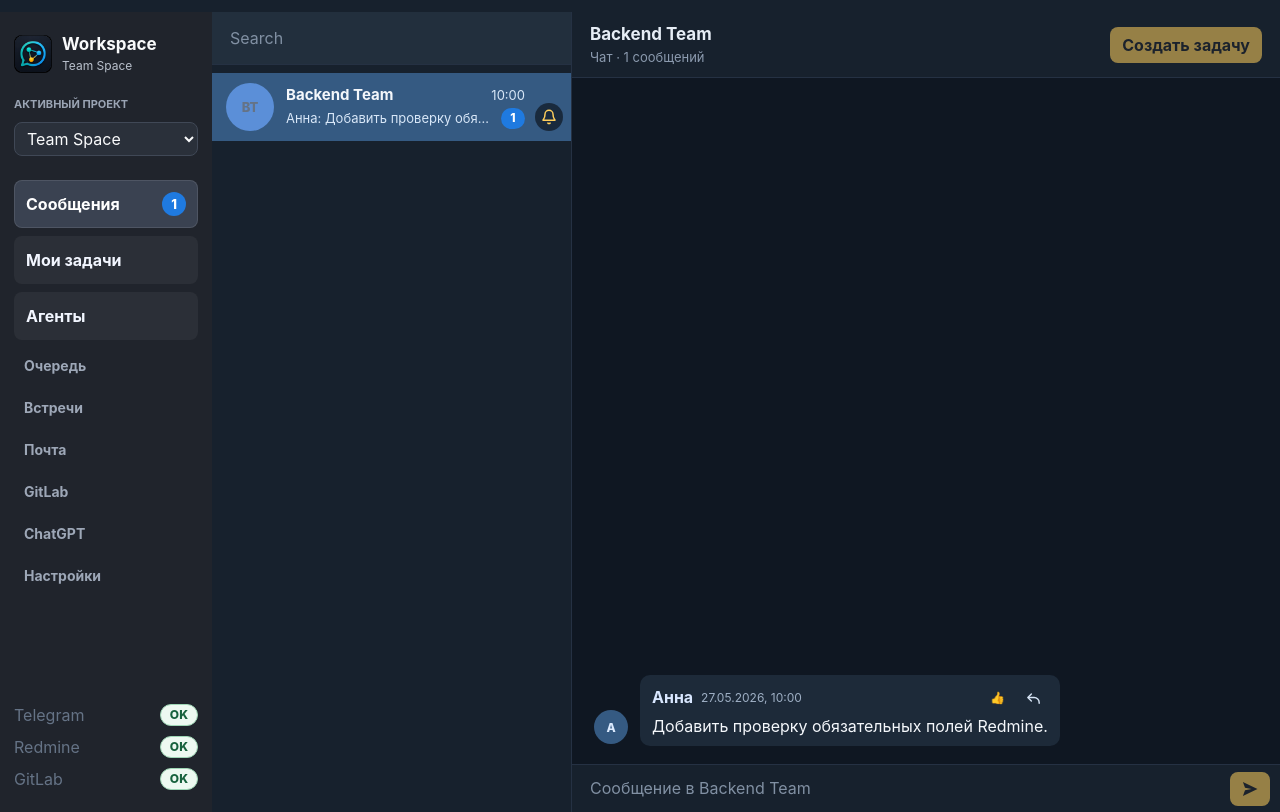
it: App › keeps a sent Telegram message visible after refreshing the focused thread
The width and height of the screenshot is (1280, 812).
Expected: the heading "Backend Team" is shown, [590, 24, 712, 46]
Type "Отправленное сообщение остается в треде." into the text box with placeholder "Сообщение в Backend Team" at [902, 788], box [582, 771, 1222, 806]
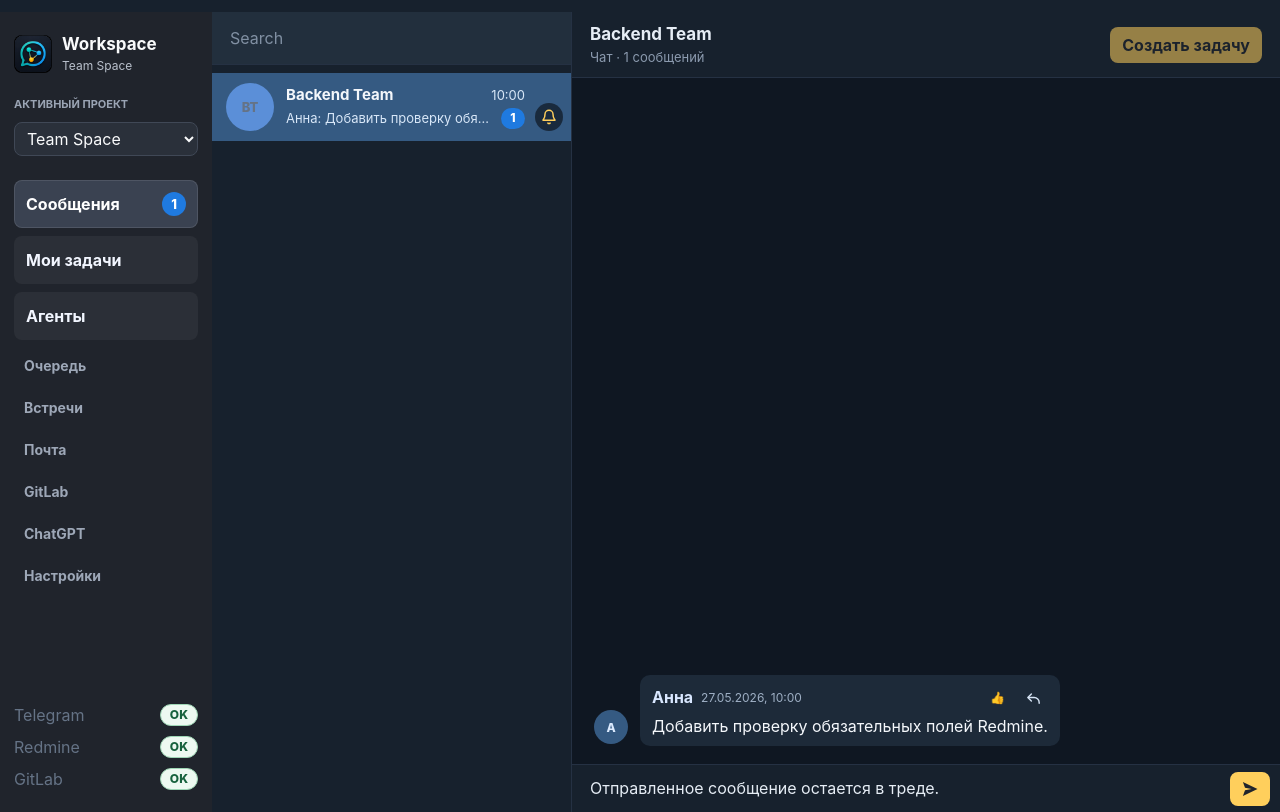
Click the button named "Отправить" at [1250, 789], box [1230, 772, 1270, 806]
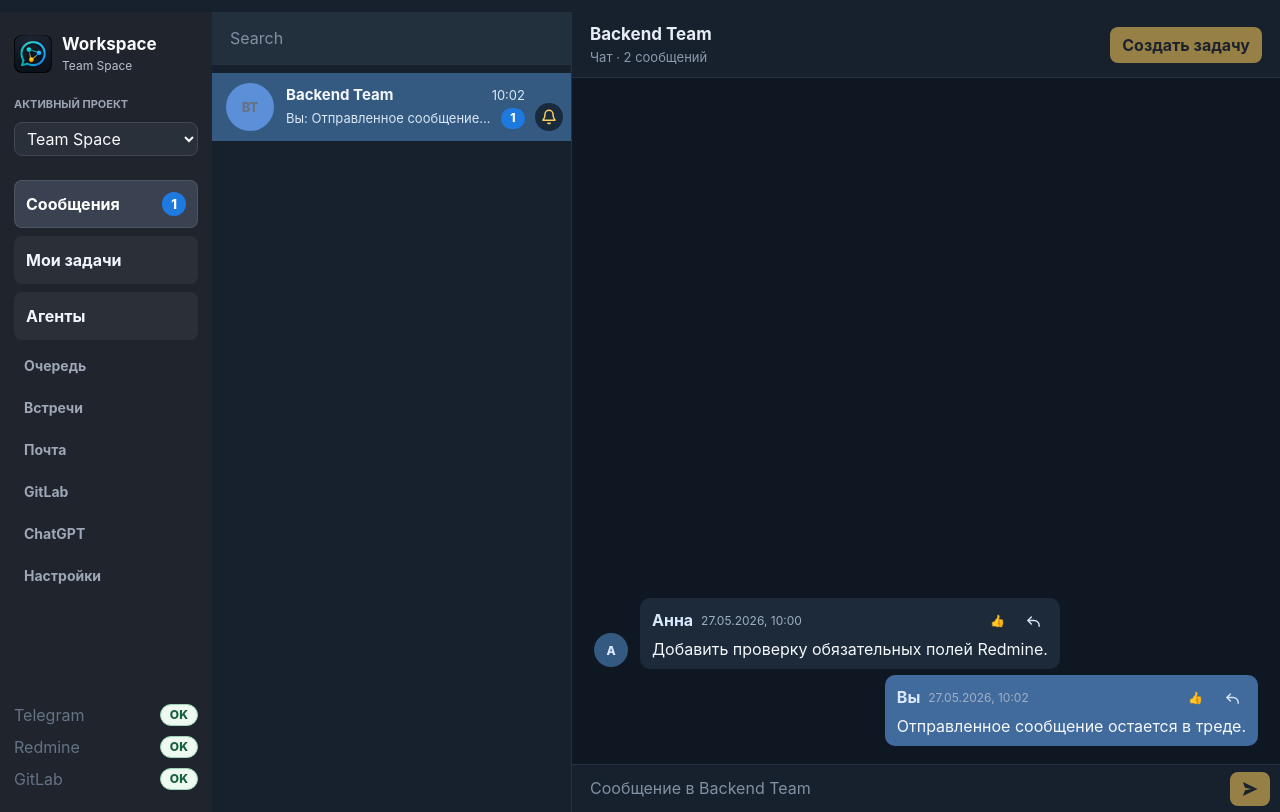
Expected: the text "Отправленное сообщение остается в треде." is shown, [897, 716, 1246, 736]
